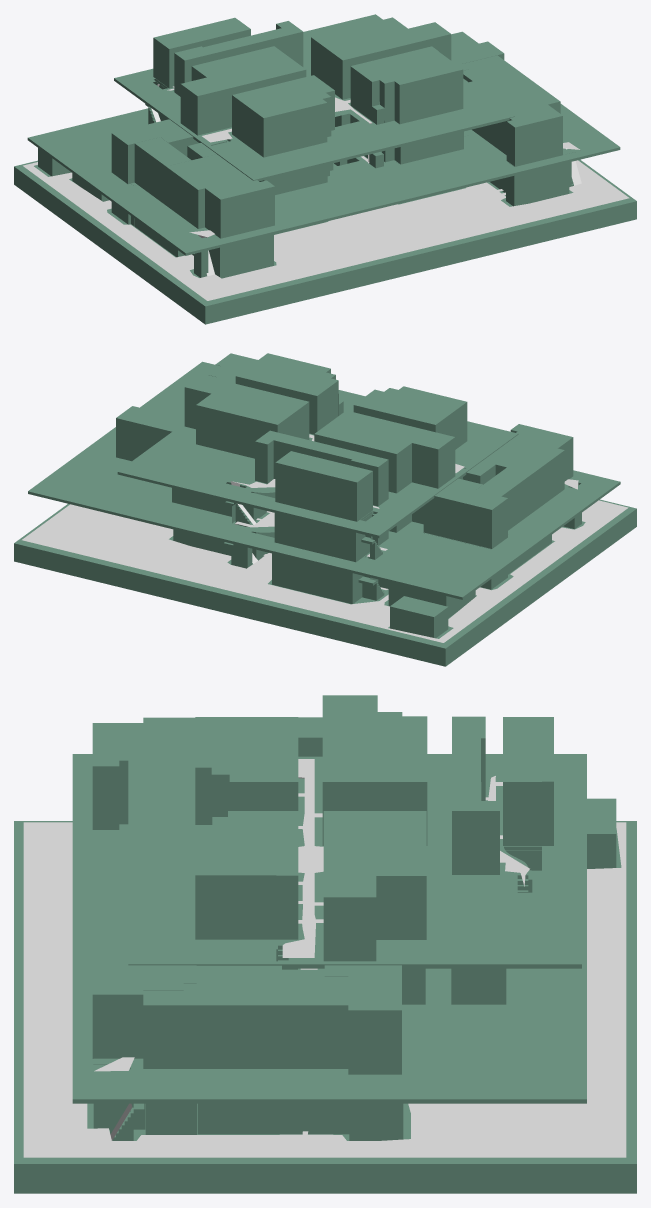
File: OCH FC.glb
The picture shows the model from 3 angles, top to bottom: view 1: azimuth 30°, elevation 25°; view 2: azimuth 150°, elevation 25°; view 3: azimuth 270°, elevation 25°; orthographic projection. The views are drawn at different scales.
Visible parts, largest first — view 1: AF, AF NM; view 2: AF, AF NM; view 3: AF, AF NM.
Part boxes in pixels (x1,y1,x2,y2): AF: (14, 14, 636, 324); AF NM: (23, 84, 629, 300); AF: (14, 353, 636, 666); AF NM: (22, 434, 628, 642); AF: (14, 695, 636, 1193); AF NM: (23, 759, 626, 1157).
Bounding box in the file's own units: 50.04 × 15.16 × 38.15.
